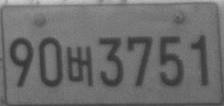0: (37, 36, 63, 87)
1: (188, 33, 214, 86)
3: (98, 36, 124, 87)
5: (158, 35, 184, 86)
7: (127, 35, 153, 86)
9: (8, 36, 33, 87)
버: (66, 45, 92, 85)
